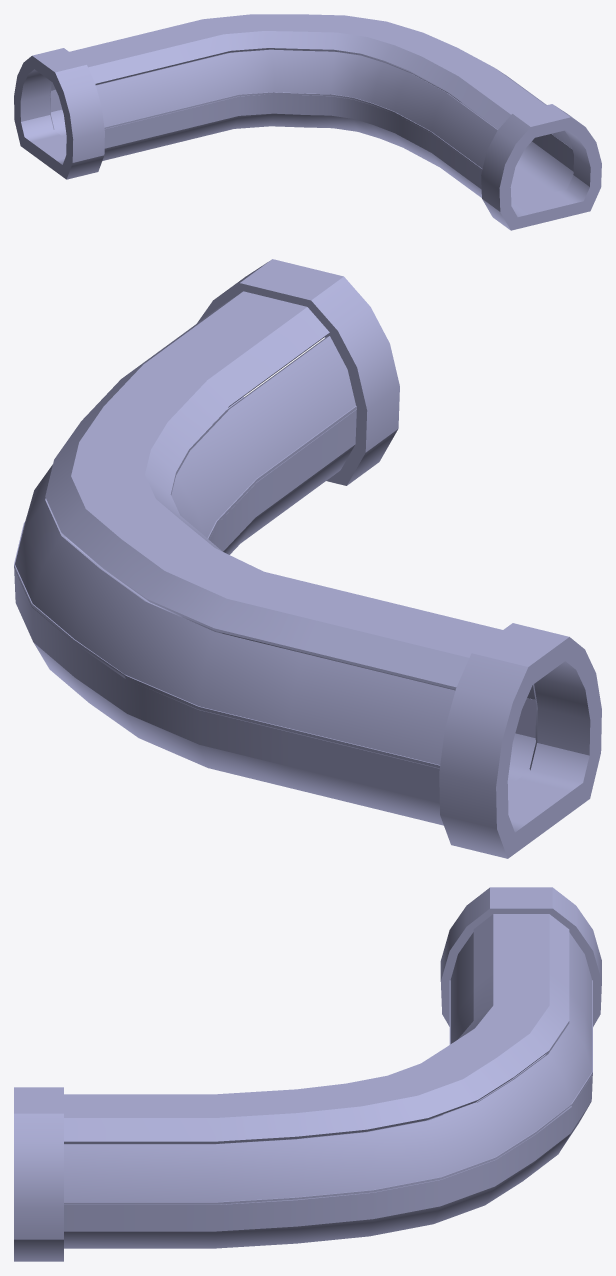
3 renders of one model, top to bottom at view 1: azimuth 30°, elevation 25°; view 2: azimuth 150°, elevation 25°; view 3: azimuth 270°, elevation 25°, orthographic. The views are drawn at different scales.
Visible parts, largest first — view 1: tunnel_povorot.001, tunnel_povorot, tunnel_povorot.002, tunnel_povorot.003; view 2: tunnel_povorot.001, tunnel_povorot, tunnel_povorot.002, tunnel_povorot.003; view 3: tunnel_povorot.001, tunnel_povorot, tunnel_povorot.003, tunnel_povorot.002.
Part boxes in pixels (<box>): tunnel_povorot.001: <box>50,14,573,202</box>; tunnel_povorot: <box>51,49,572,170</box>; tunnel_povorot.002: <box>14,48,104,179</box>; tunnel_povorot.003: <box>481,104,601,230</box>; tunnel_povorot.001: <box>14,291,536,825</box>; tunnel_povorot: <box>14,336,535,768</box>; tunnel_povorot.002: <box>439,623,601,858</box>; tunnel_povorot.003: <box>197,259,399,485</box>; tunnel_povorot.001: <box>64,914,592,1248</box>; tunnel_povorot: <box>64,932,592,1204</box>; tunnel_povorot.003: <box>14,1087,63,1261</box>; tunnel_povorot.002: <box>440,887,601,1026</box>.
Size of the model in its own units: 4.07 by 1.03 by 4.09.
